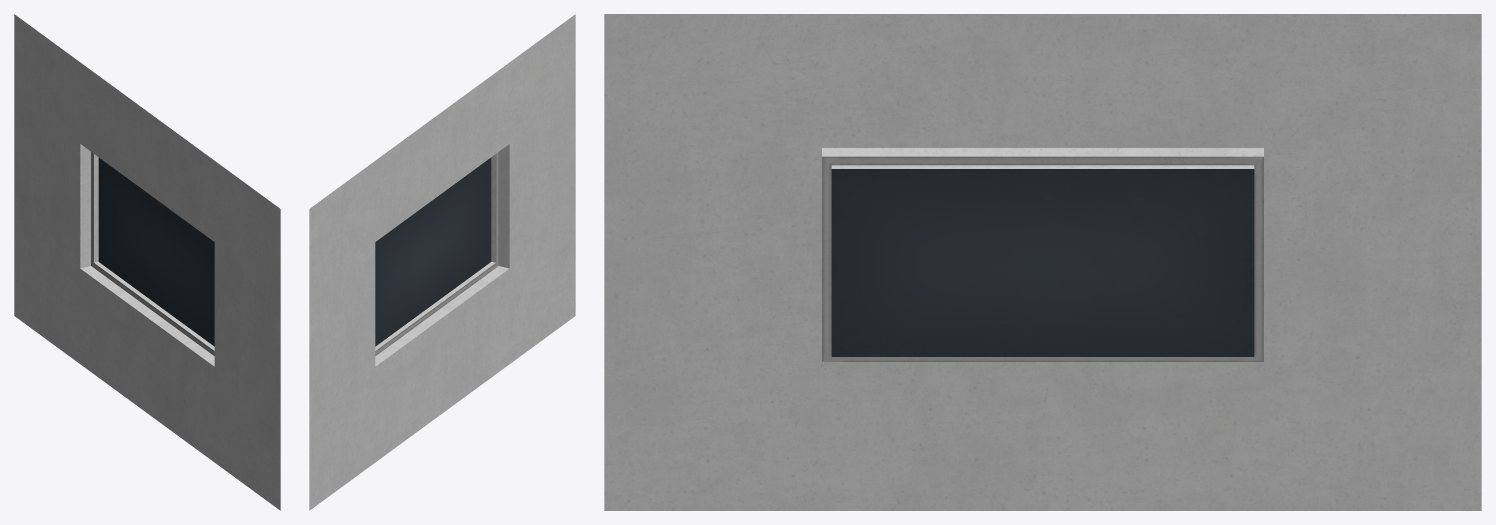
Rendered from MB_Wall_Window_A_04.fbx.
3 views of the same model, side by side, from view 1: azimuth 30°, elevation 25°; view 2: azimuth 150°, elevation 25°; view 3: azimuth 270°, elevation 25° (orthographic). The views are drawn at different scales.
Visible parts, largest first — view 1: MB_Wall_Window_A_04; view 2: MB_Wall_Window_A_04; view 3: MB_Wall_Window_A_04.
Boxes of the visible parts, <box> form: MB_Wall_Window_A_04: <box>14,14,280,510</box>; MB_Wall_Window_A_04: <box>309,14,575,510</box>; MB_Wall_Window_A_04: <box>604,14,1481,510</box>.
Bounding box in the file's own units: 13.2 × 250 × 400.
